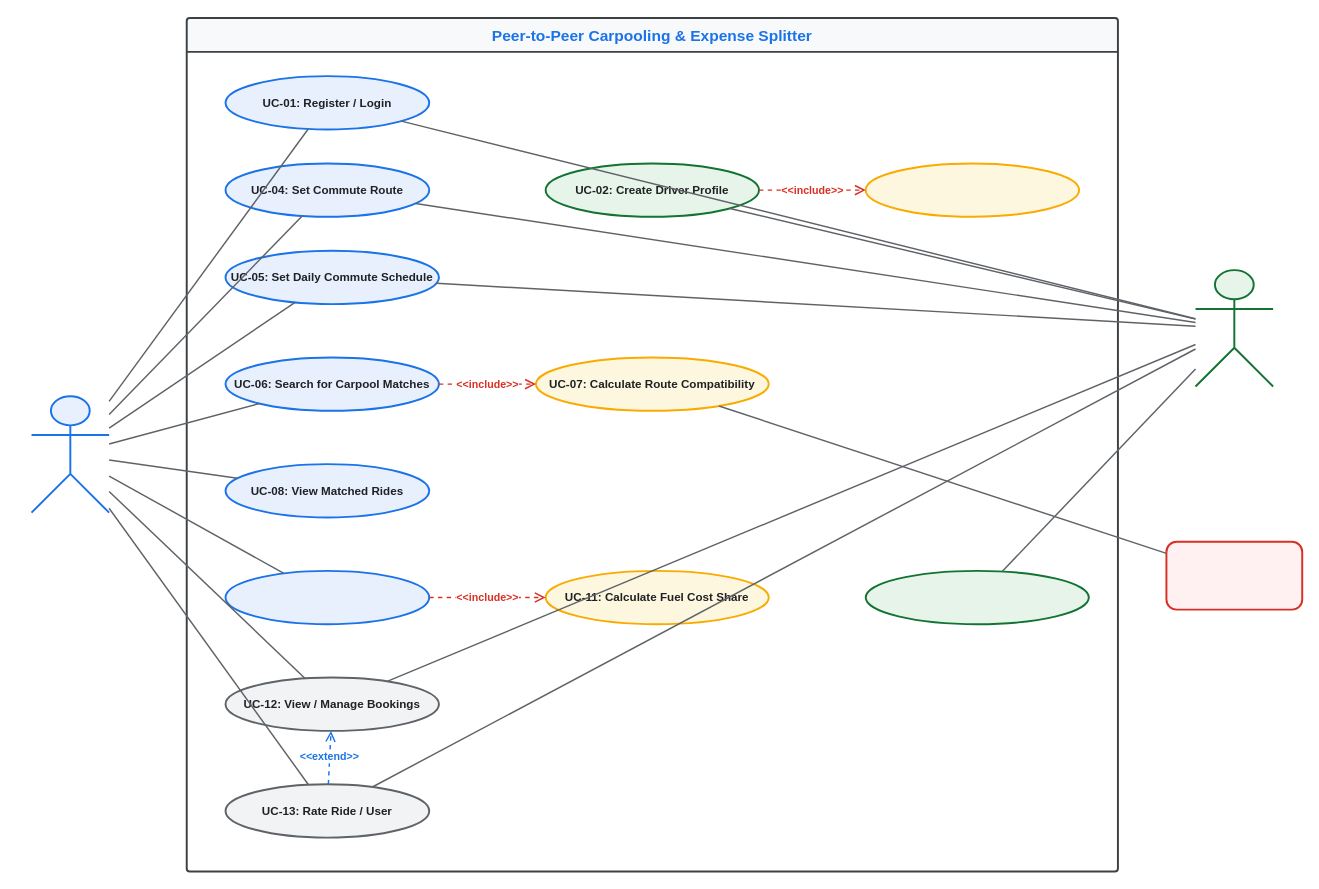
Some shapes in this 1319 by 889 pixel diagram are drawn without their labels. Here are the shapes that lost their labels. From the top down, the box of each, then its label:
(864, 162, 1080, 217): UC-03: Verify Driver / Vehicle
(1194, 269, 1274, 387): Driver Host
(30, 395, 110, 513): Rider Commuter
(1165, 540, 1303, 610): <<System>> Map & Route Service
(224, 569, 430, 625): UC-09: Request a Ride
(864, 569, 1089, 625): UC-10: Approve / Reject Ride Request
